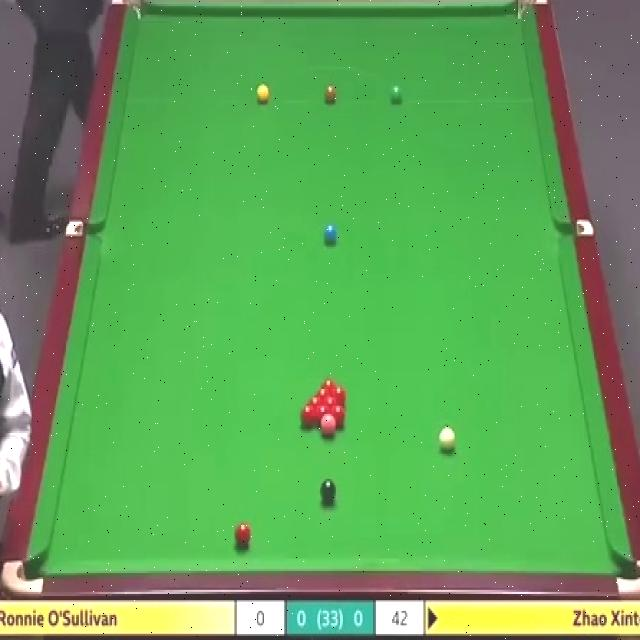black-ball: (320, 478, 338, 508)
blue-ball: (322, 220, 338, 245)
brown-ball: (323, 85, 338, 106)
green-ball: (390, 84, 405, 106)
pink-ball: (320, 413, 337, 438)
red-ball: (299, 404, 315, 429), (234, 523, 250, 548), (330, 405, 346, 429), (315, 406, 330, 428), (332, 387, 346, 404), (322, 396, 341, 406), (307, 396, 323, 407), (314, 388, 332, 397), (322, 378, 338, 388)
white-ball: (438, 424, 456, 453)
yellow-ball: (256, 83, 270, 105)
